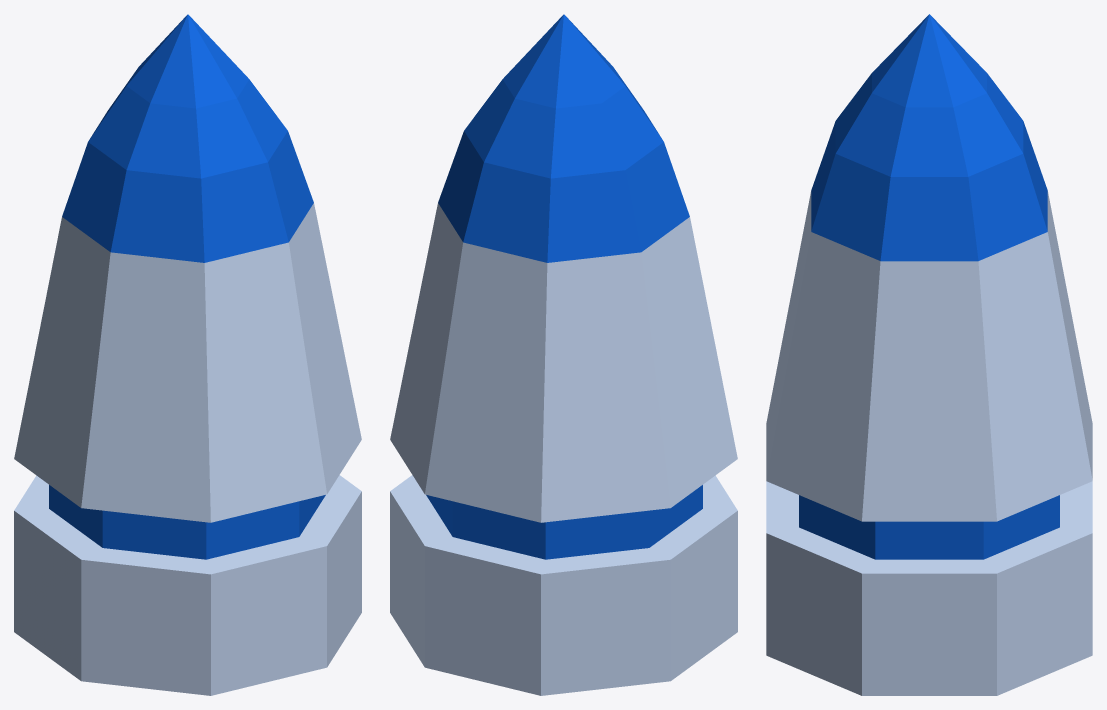
The model's file is Mortar_Shell_AA_1.fbx.
The picture shows the model from 3 angles, left to right: view 1: azimuth 30°, elevation 25°; view 2: azimuth 150°, elevation 25°; view 3: azimuth 270°, elevation 25°; orthographic projection.
Parts seen in each view (by area): view 1: AntiAirMortarShell1; view 2: AntiAirMortarShell1; view 3: AntiAirMortarShell1.
Boxes of the visible parts, x1,y1,x2,y2 form: AntiAirMortarShell1: [14, 14, 361, 695]; AntiAirMortarShell1: [390, 14, 737, 695]; AntiAirMortarShell1: [766, 14, 1092, 695].
Size of the model in its own units: 7.09 by 14.69 by 7.09.
Materials: 1 (1 with a texture image).
